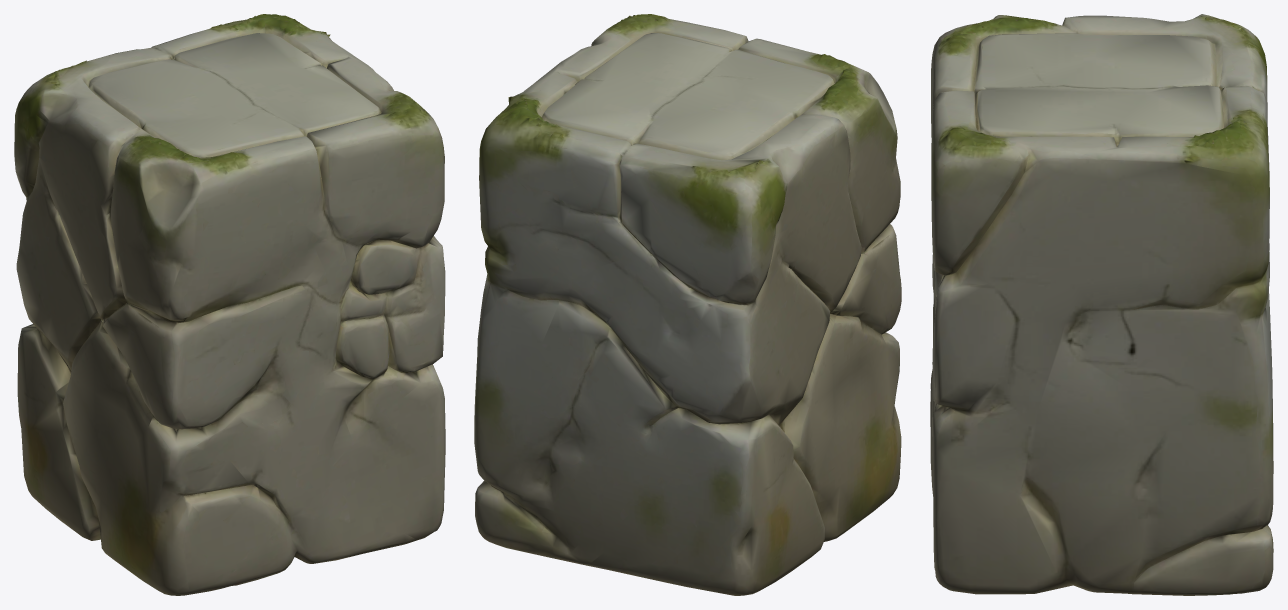
File: pillar4.glb
The picture shows the model from 3 angles, left to right: view 1: azimuth 30°, elevation 25°; view 2: azimuth 150°, elevation 25°; view 3: azimuth 270°, elevation 25°; orthographic projection. The views are drawn at different scales.
Parts seen in each view (by area): view 1: world; view 2: world; view 3: world.
Boxes of the visible parts, x1,y1,x2,y2 form: world: (14, 14, 445, 595); world: (474, 14, 901, 595); world: (930, 14, 1273, 595).
Size of the model in its own units: 0.6939 by 0.9995 by 0.6856.
1 material, 1 textured.
